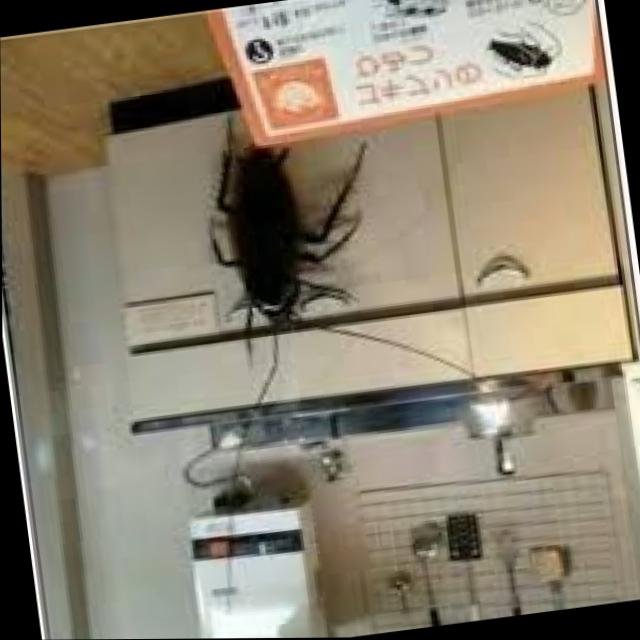Cockroach: (122, 69, 507, 636)
